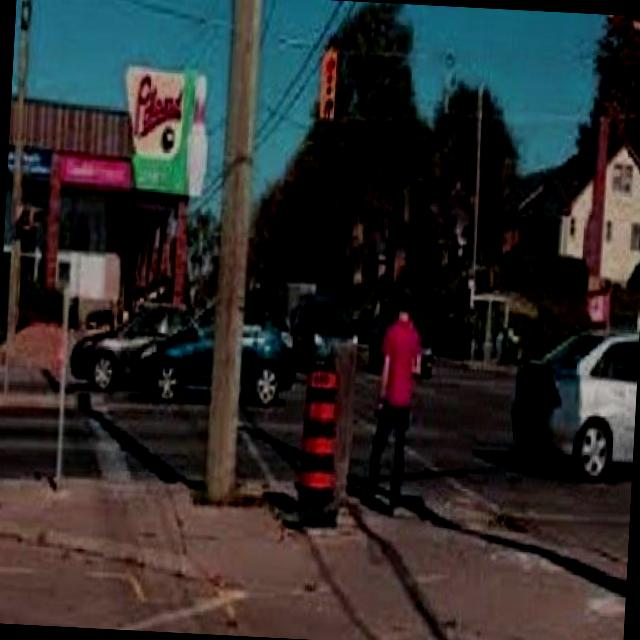Person: (362, 276, 441, 524)
